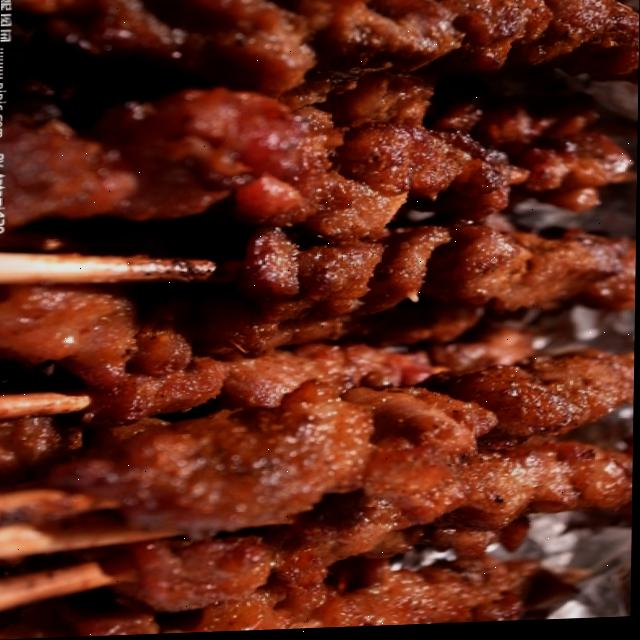烧串烤肉: (25, 0, 630, 617)
